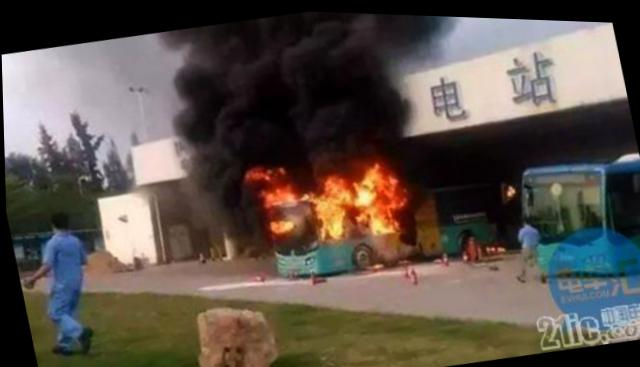fire: (307, 187, 346, 242), (354, 197, 393, 232), (316, 171, 350, 204), (258, 178, 297, 203), (347, 173, 374, 202), (358, 156, 380, 185), (378, 170, 399, 200), (266, 211, 295, 230), (241, 160, 269, 179)
